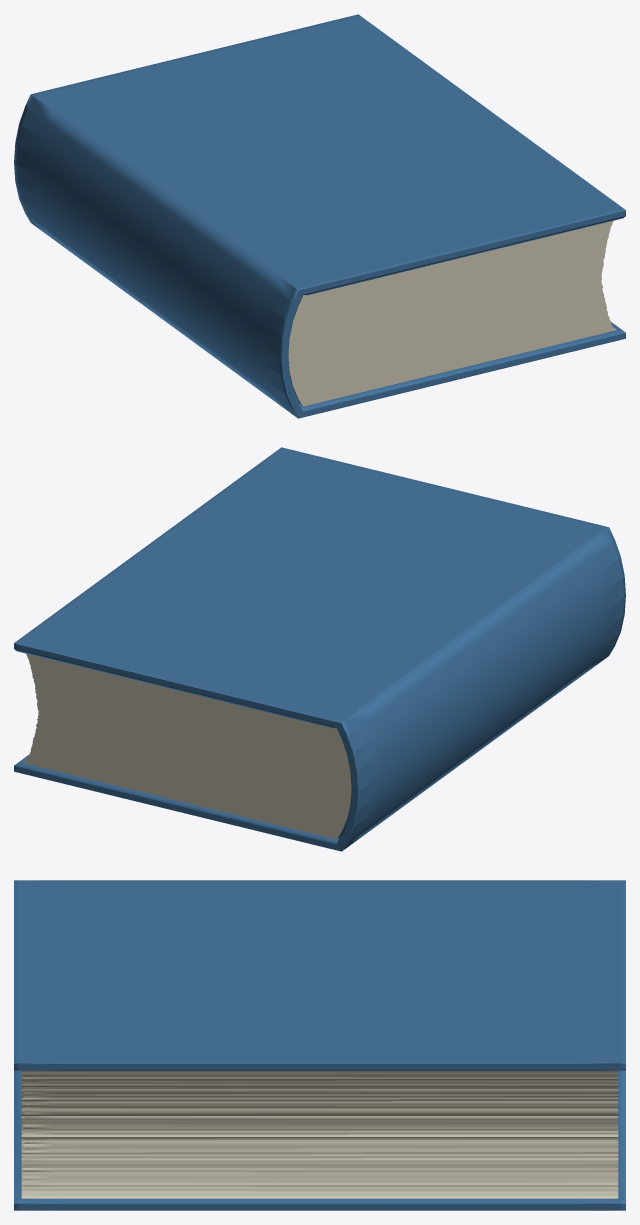
File: Book_fbx.fbx
The picture shows the model from 3 angles, top to bottom: view 1: azimuth 30°, elevation 25°; view 2: azimuth 150°, elevation 25°; view 3: azimuth 270°, elevation 25°; orthographic projection. The views are drawn at different scales.
Visible parts, largest first — view 1: Book; view 2: Book; view 3: Book.
Part boxes in pixels (x1,y1,x2,y2): Book: [14, 14, 625, 418]; Book: [14, 447, 625, 851]; Book: [14, 880, 625, 1210].
Bounding box in the file's own units: 14.97 × 5.34 × 20.14.
